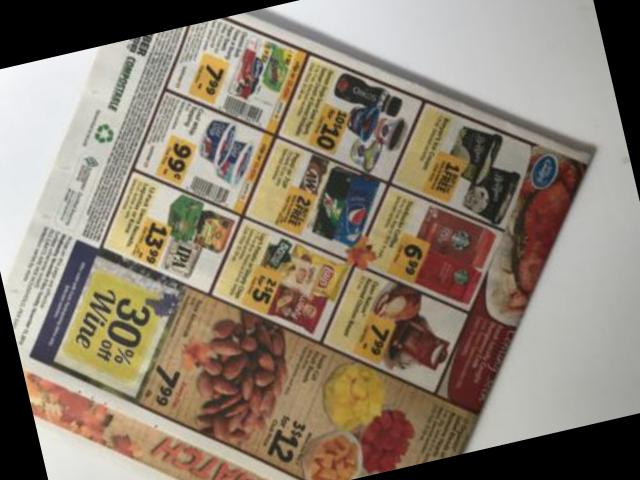cardboard paper: (2, 8, 591, 480)
